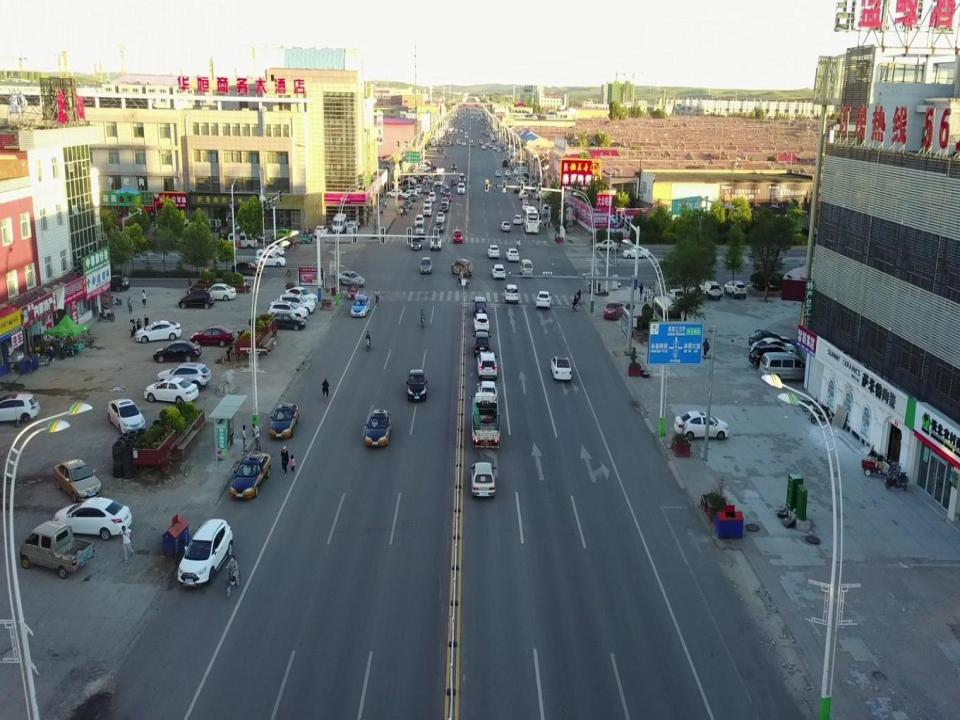bus: (524, 206, 541, 233), (434, 166, 446, 185)
car: (177, 518, 233, 586), (52, 497, 132, 541), (53, 457, 101, 501), (230, 452, 270, 498), (157, 360, 211, 391), (674, 410, 729, 440), (144, 376, 198, 406), (107, 399, 146, 436), (0, 393, 40, 422), (152, 340, 202, 363), (135, 320, 181, 343), (748, 330, 791, 354), (270, 402, 298, 438), (365, 409, 392, 445), (752, 337, 796, 359), (470, 462, 496, 498), (190, 325, 234, 346), (268, 299, 308, 322), (749, 346, 792, 366), (276, 294, 316, 315), (270, 311, 307, 331), (406, 369, 428, 400), (284, 286, 318, 306), (178, 291, 214, 309), (475, 351, 497, 379), (477, 379, 499, 406), (202, 284, 236, 300), (550, 356, 572, 379), (336, 270, 364, 288), (102, 275, 130, 293), (472, 331, 492, 356), (698, 280, 722, 300), (350, 295, 371, 317), (230, 261, 263, 275), (451, 258, 474, 278), (267, 236, 296, 251), (723, 280, 747, 298), (255, 244, 284, 258), (255, 254, 286, 267), (604, 302, 626, 320), (471, 296, 488, 316), (622, 245, 648, 258), (504, 283, 519, 304), (472, 314, 489, 332), (666, 288, 685, 304), (594, 238, 618, 250), (536, 291, 552, 308), (491, 264, 506, 280), (271, 229, 291, 241), (419, 256, 432, 274), (314, 225, 329, 239), (801, 225, 818, 237), (402, 188, 418, 200), (429, 236, 442, 250), (506, 248, 519, 262), (218, 227, 232, 240), (386, 188, 403, 198), (487, 245, 499, 258), (411, 236, 422, 250), (414, 214, 425, 227), (452, 229, 462, 243), (513, 214, 524, 226), (422, 204, 432, 217), (434, 220, 444, 232), (402, 199, 412, 210), (500, 221, 510, 232), (401, 184, 414, 192), (458, 182, 466, 195), (428, 191, 436, 202), (423, 199, 432, 208), (440, 202, 448, 212), (436, 212, 444, 222), (408, 193, 417, 201), (414, 184, 422, 193), (440, 185, 448, 194), (443, 193, 452, 201), (440, 197, 449, 205), (522, 202, 530, 211), (423, 184, 430, 194), (459, 174, 466, 184), (408, 194, 416, 201), (444, 187, 450, 196), (494, 170, 501, 177), (505, 169, 511, 176), (452, 177, 457, 185), (451, 163, 456, 168)
truck: (19, 520, 94, 579), (469, 392, 499, 448)
van: (760, 352, 812, 382), (652, 295, 681, 336), (227, 233, 258, 248), (331, 213, 347, 234), (519, 258, 533, 278), (542, 204, 561, 216), (346, 220, 358, 236), (416, 220, 425, 236), (513, 166, 528, 174), (516, 169, 527, 175)
